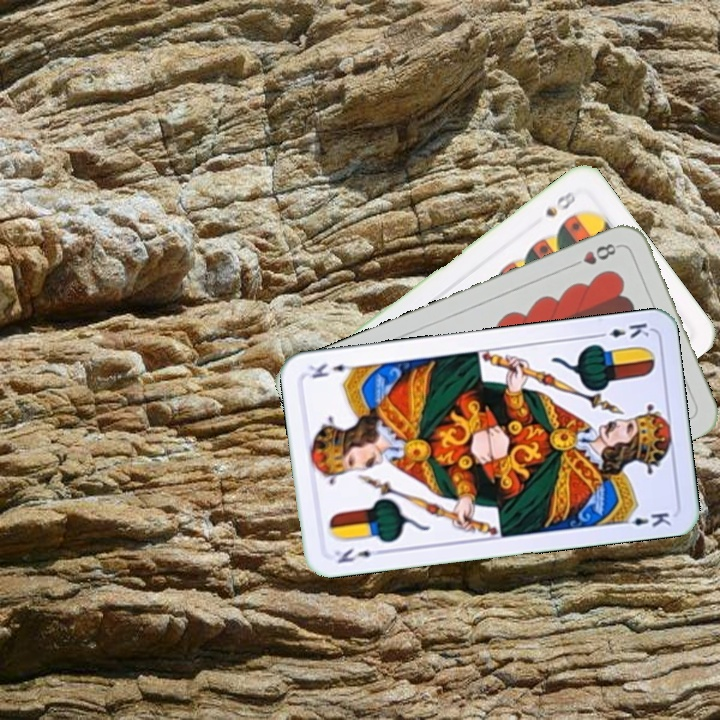EK: (592, 318, 652, 341), (330, 544, 386, 566)
H8: (566, 239, 622, 271)
S8: (541, 186, 579, 220)
